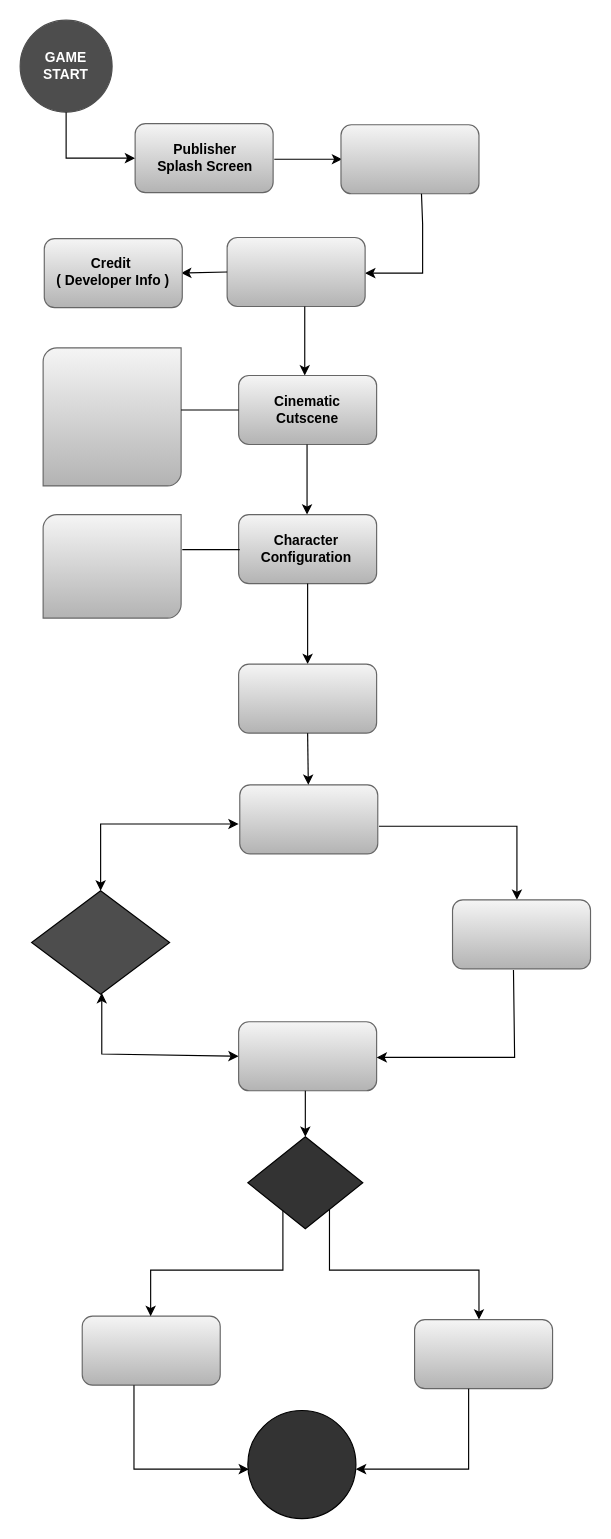
Image size: 611x1539. Some labels were removed from this diagram. The centre of each missing label's shape, as x and y in pixels:
"Developer Splash Screen" goes at [409,159].
"Game Menu" goes at [295,271].
"Level Configuration" goes at [307,698].
